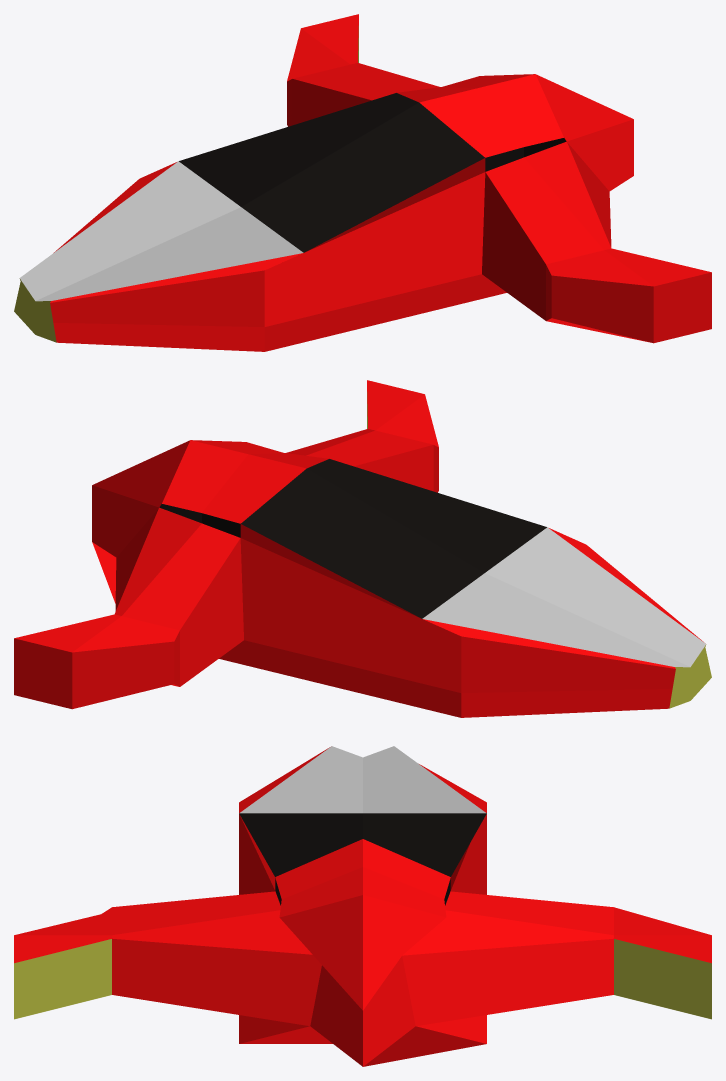
Rendered from ship2.obj.
The picture shows the model from 3 angles, top to bottom: view 1: azimuth 30°, elevation 25°; view 2: azimuth 150°, elevation 25°; view 3: azimuth 270°, elevation 25°; orthographic projection.
Parts seen in each view (by area): view 1: Cube; view 2: Cube; view 3: Cube.
Part boxes in pixels (x1,y1,x2,y2): Cube: [14, 14, 711, 351]; Cube: [14, 380, 711, 717]; Cube: [14, 746, 711, 1066].
Size of the model in its own units: 5.52 by 1.33 by 5.63.
